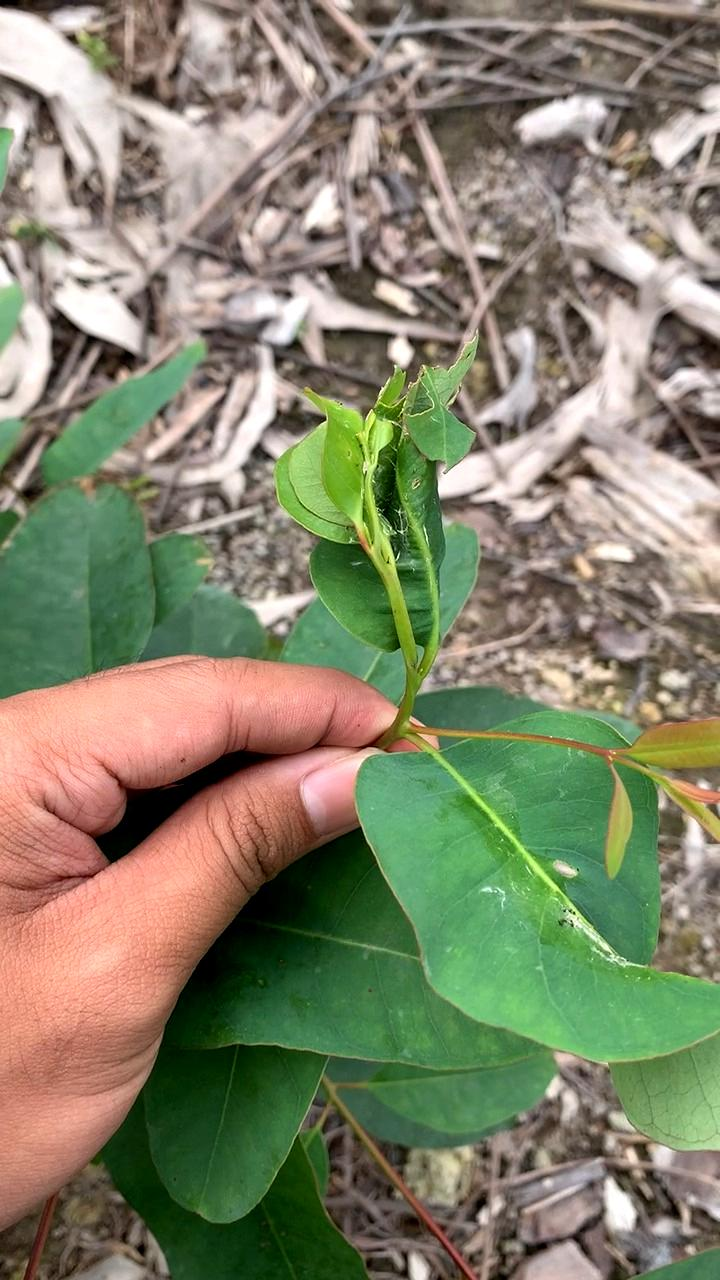Leaf Roller - Leaf: (271, 368, 475, 640)
